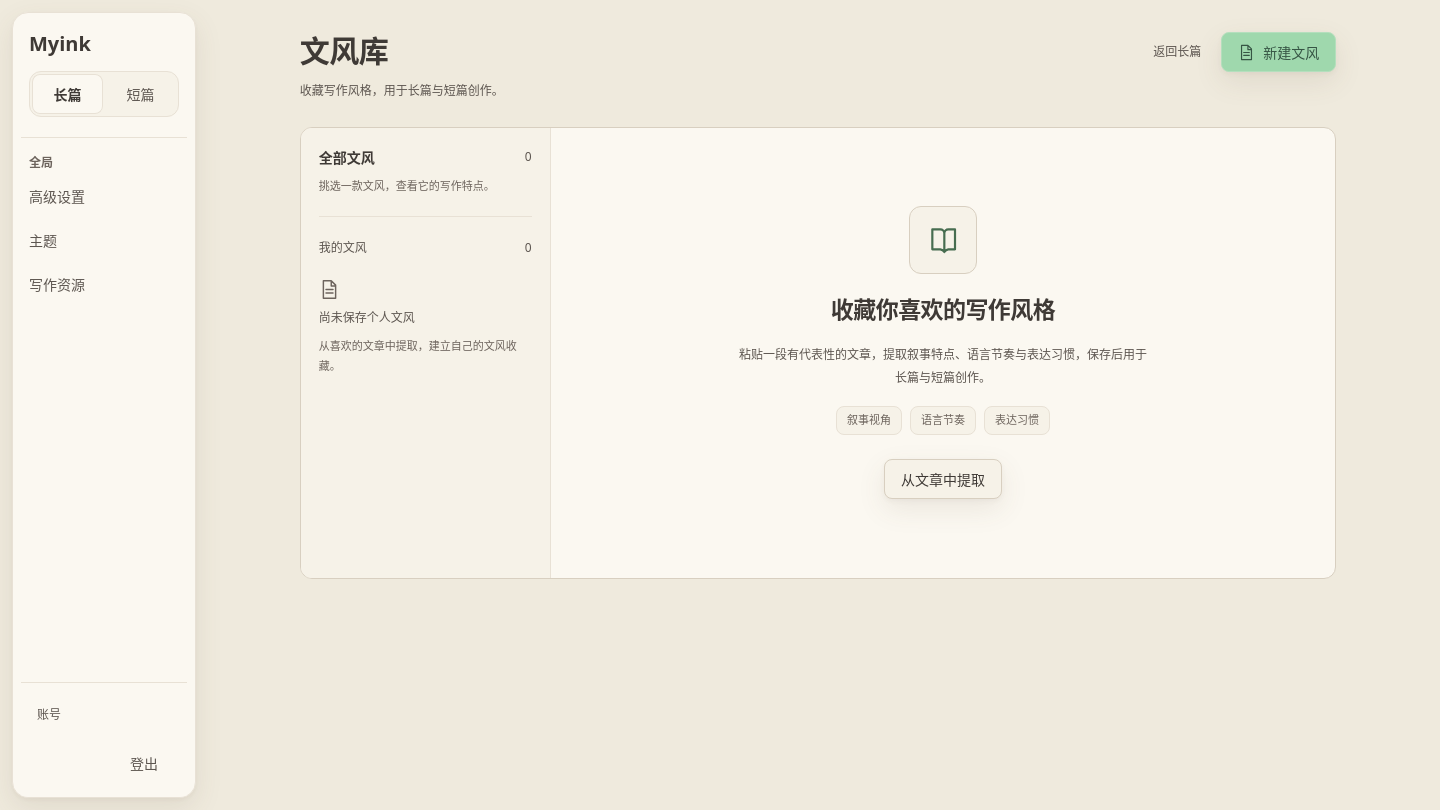
Test: opens the sample editor directly from an empty library without extracting until requested
Click the button "从文章中提取". click: (943, 479)
box: [884,459,1002,499]
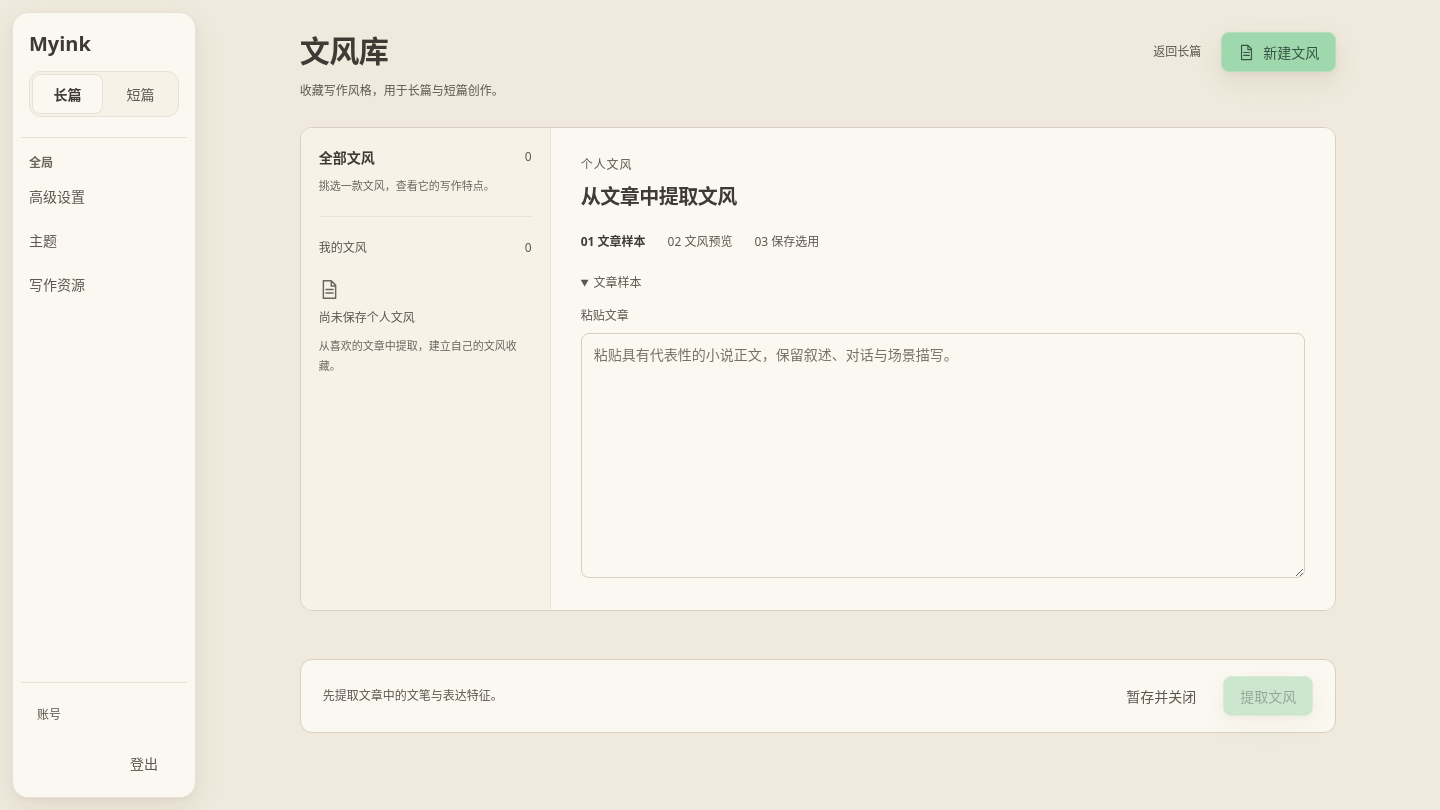
Result: the text box labelled "粘贴文章" is shown at [581,333,1305,578]
